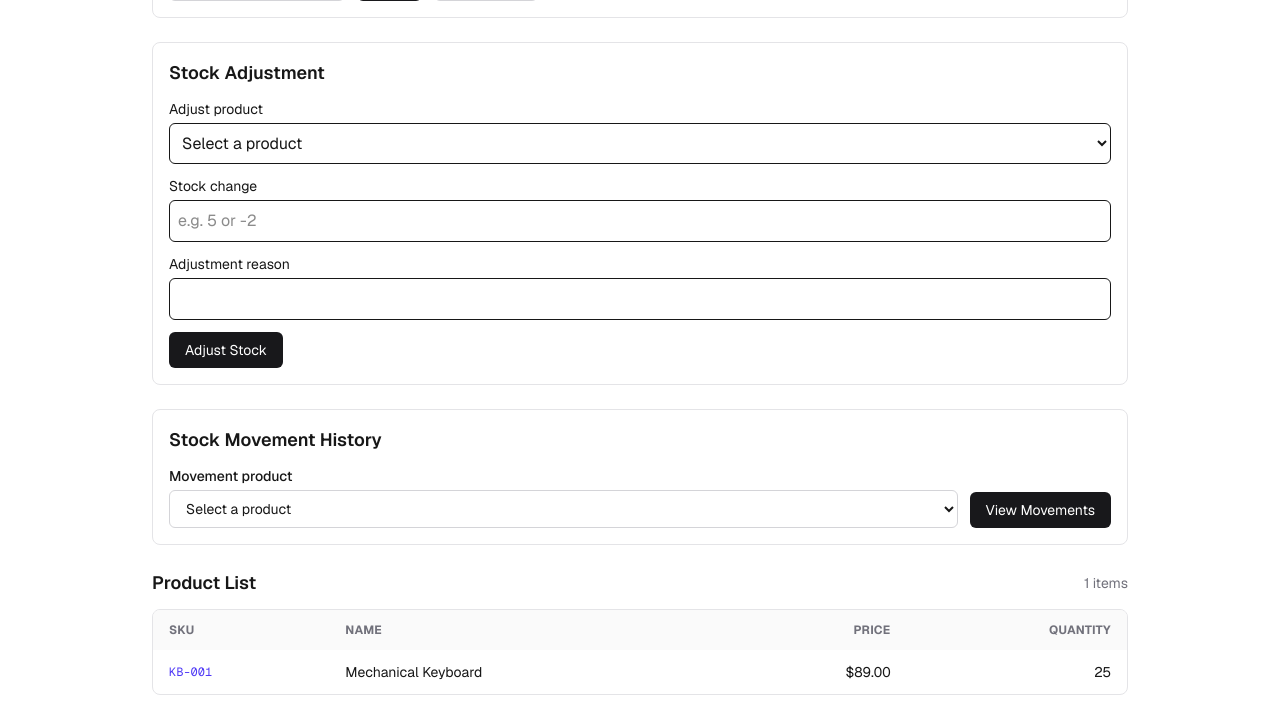
Test: ProductsPage stock movement history › reloads the displayed history after the stock is adjusted
(page scrolled)
Expected: the cell "Mechanical Keyboard" is shown, [329,650,726,694]
Select "Mechanical Keyboard (KB-001)" in the dropdown labelled "Movement product": (563, 509) [169,490,958,528]
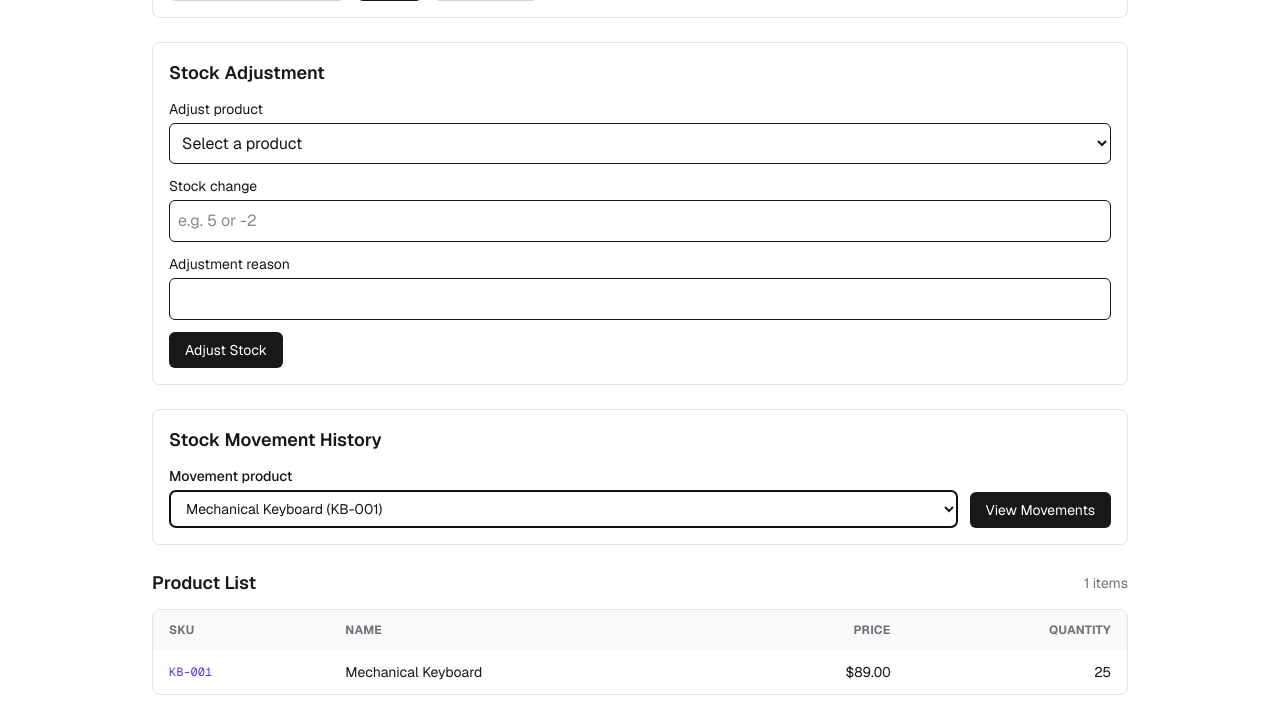
Click the button "View Movements": (1040, 510) [970,492,1111,528]
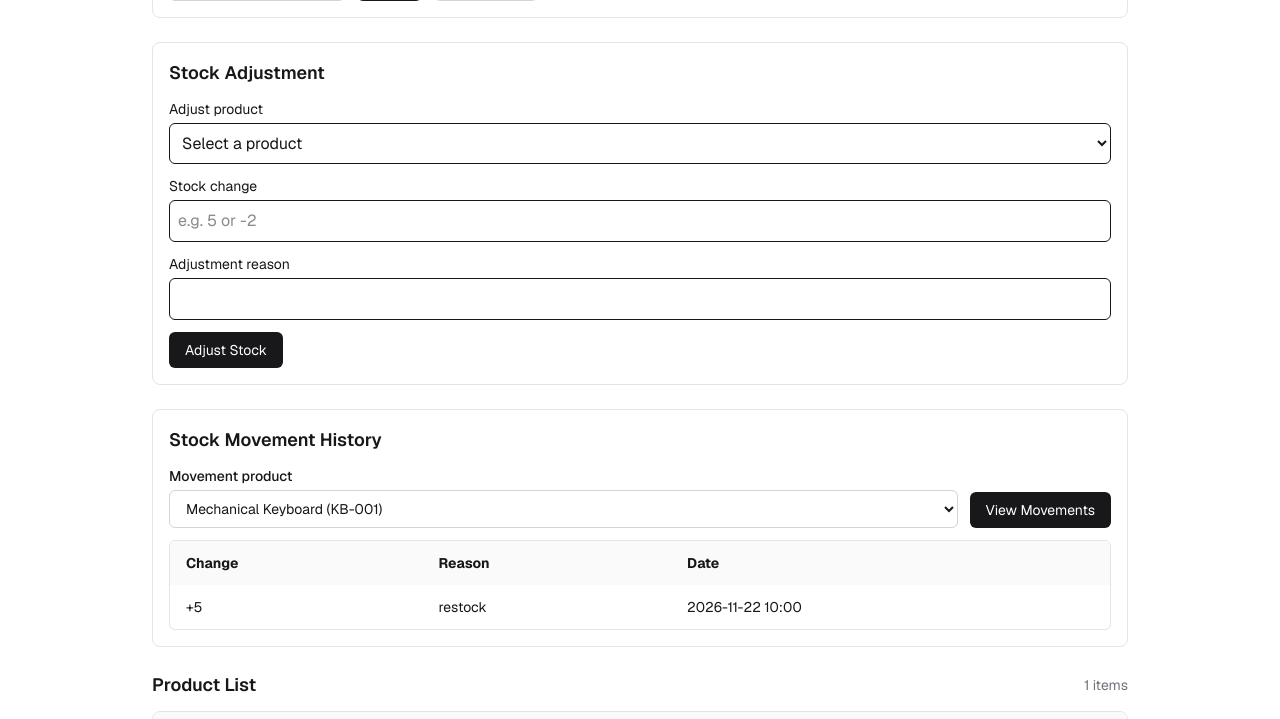
Expected: the text "restock" is shown, [423,585,671,629]
Select "Mechanical Keyboard (KB-001)" in the dropdown labelled "Adjust product": (640, 144) [169,123,1111,164]
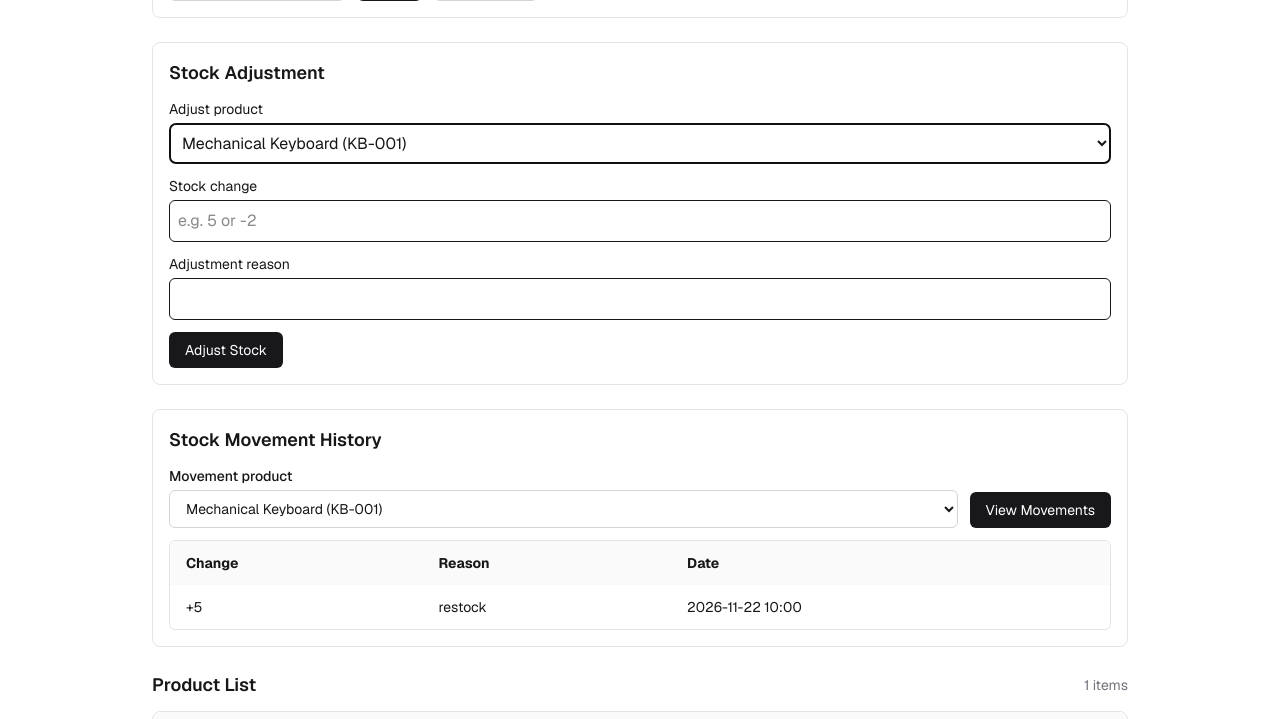
In the number field labelled "Stock change": (640, 221) [169,200,1111,242], type "-3"
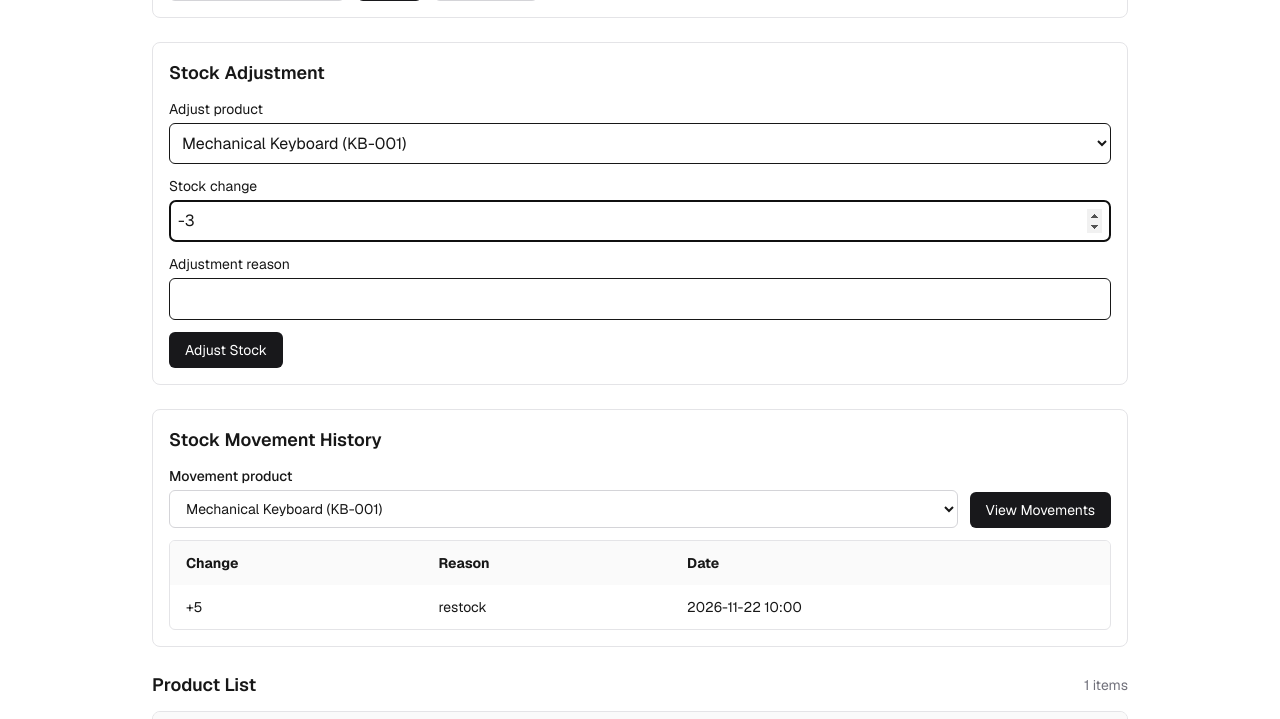
In the field labelled "Adjustment reason": (640, 299) [169,278,1111,320], type "damaged"
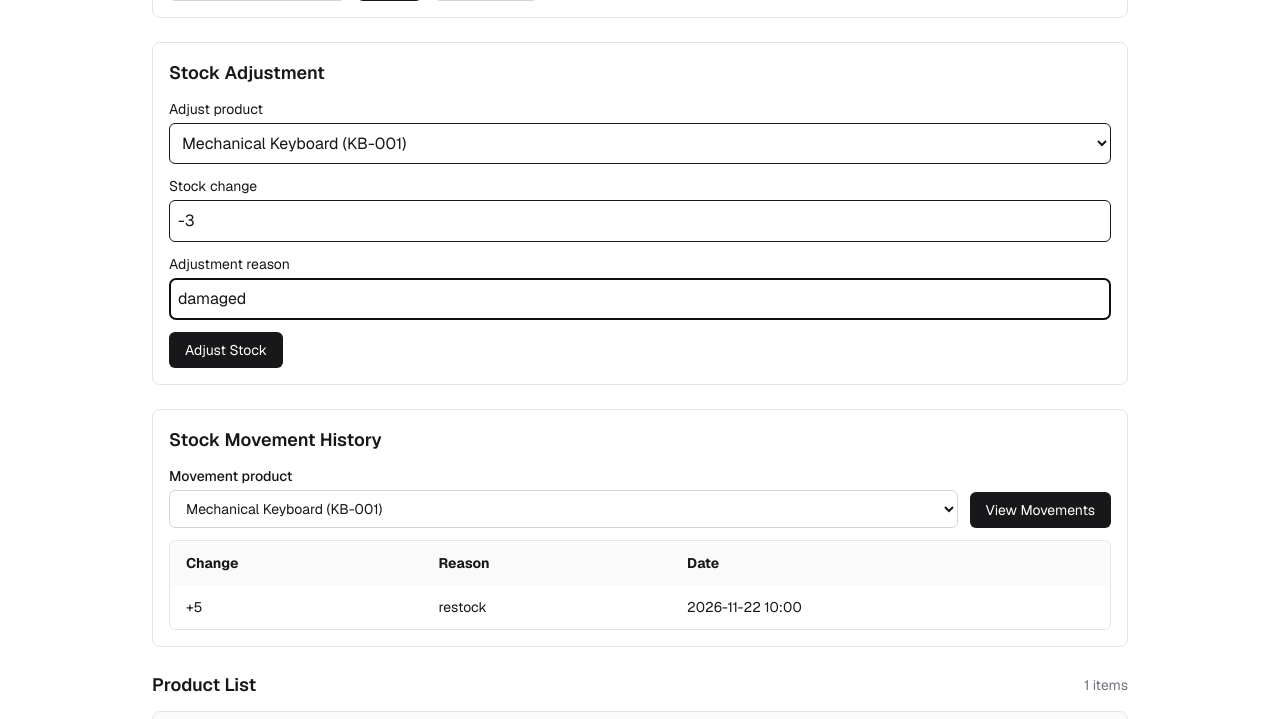
Click the button "Adjust Stock": (226, 350) [169,332,283,368]
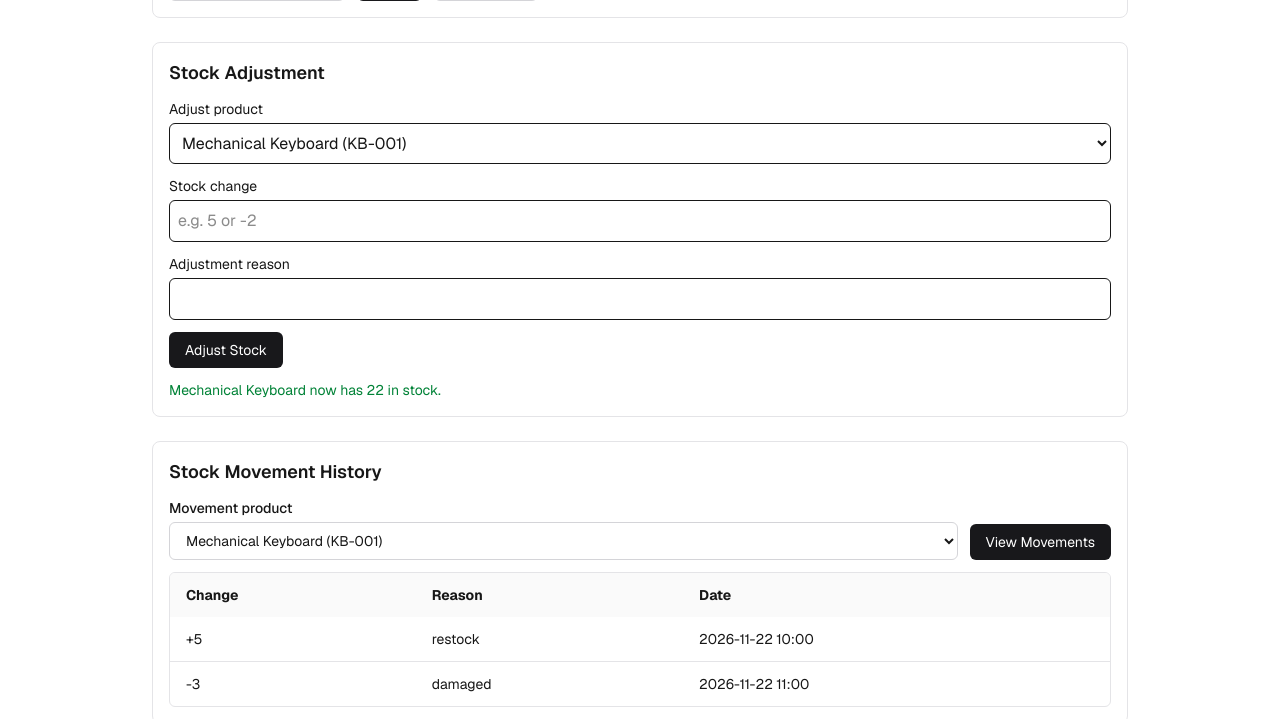
Expected: the text "damaged" is shown, [416,662,683,706]
